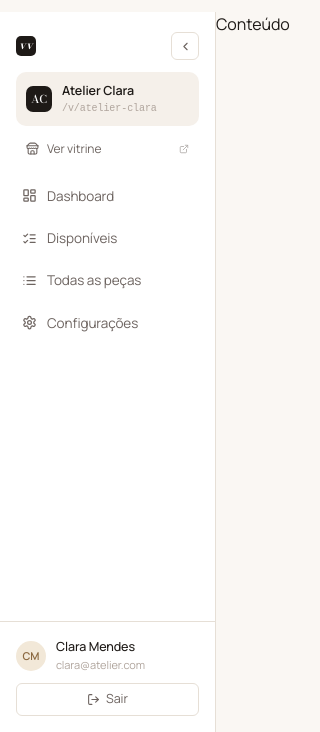
Test case: AdminShell › permite recolher e expandir a barra lateral
The width and height of the screenshot is (320, 732).
Expected: the text "Disponíveis" is shown, [47,228,117,248]
Click the button named "Recolher menu" at {"x": 185, "y": 46}, box [171,32,199,60]
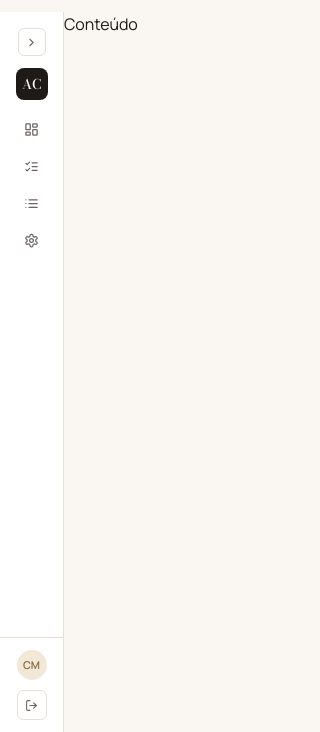
Result: the text "Disponíveis" is gone
Click the button named "Expandir menu" at {"x": 32, "y": 42}, box [18,28,46,56]
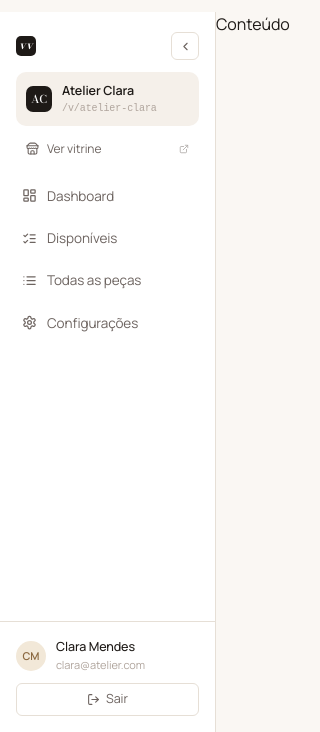
Result: the text "Disponíveis" is shown at [47,228,117,248]
